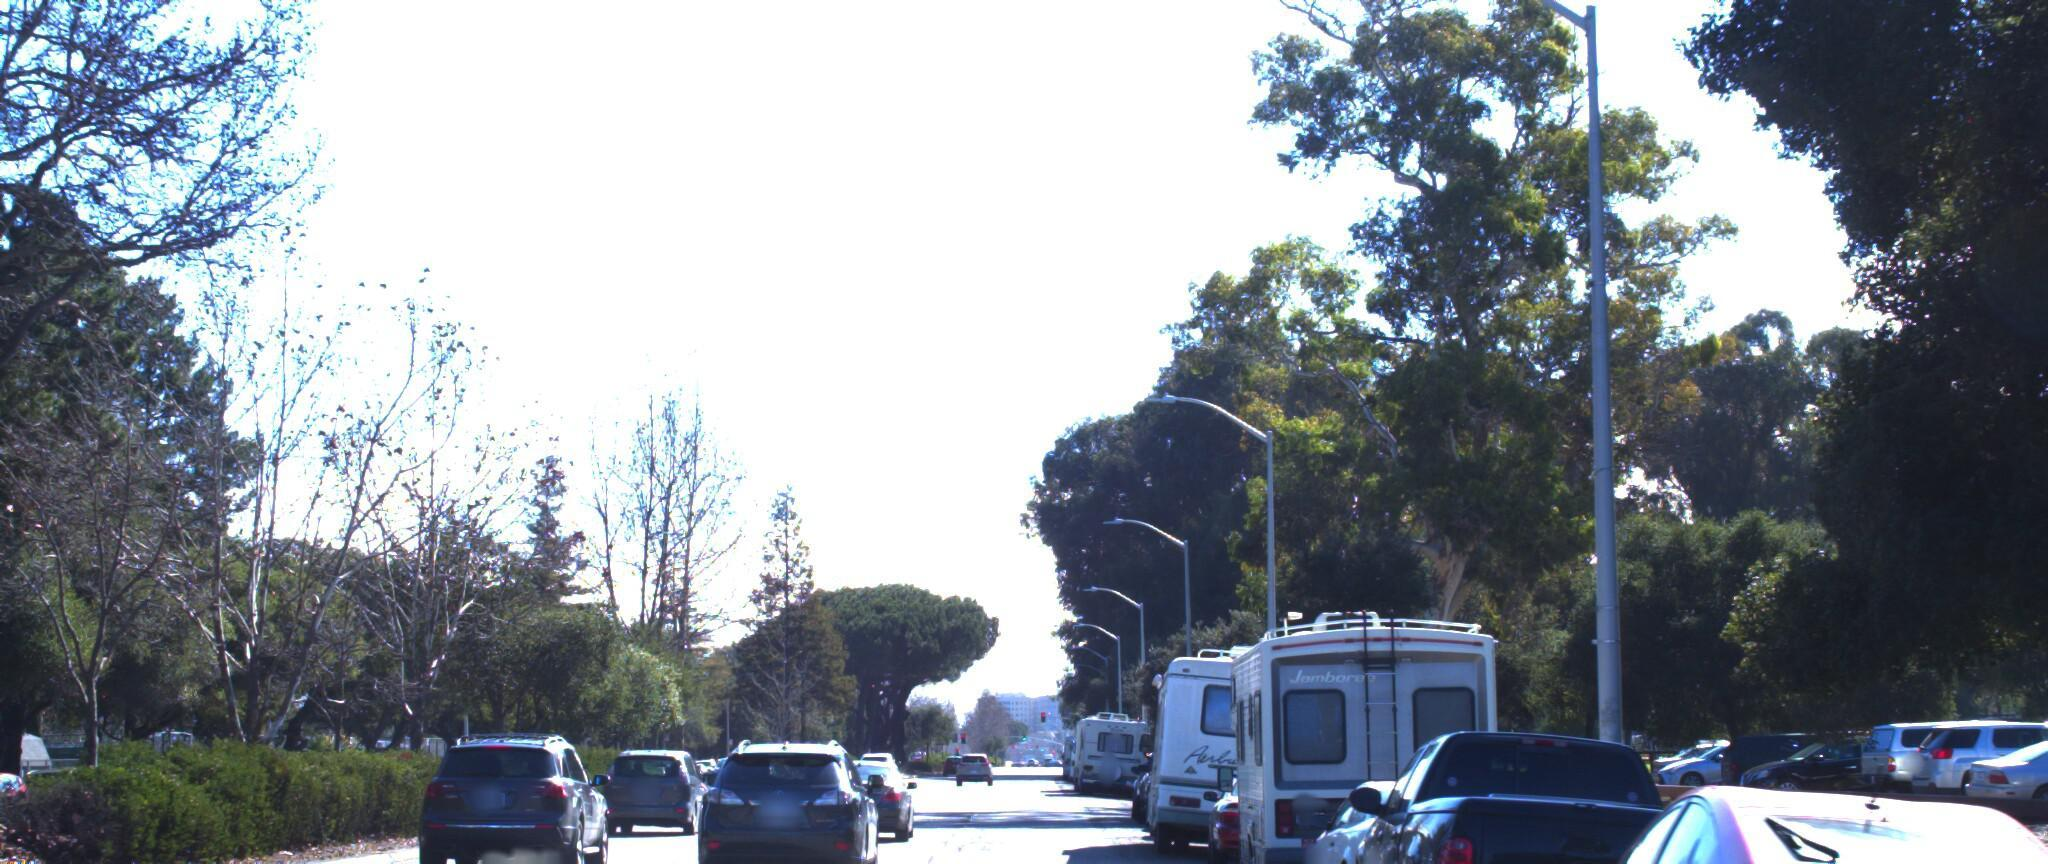car: (1305, 701, 1761, 864), (1493, 749, 2048, 864), (421, 713, 616, 864), (1266, 754, 1536, 864), (687, 719, 886, 864), (1941, 626, 2048, 864), (1177, 747, 1354, 864), (1830, 700, 2048, 794), (1876, 700, 2048, 797), (593, 720, 717, 825), (1927, 717, 2048, 803), (822, 740, 933, 824)
other_vehicle: (1183, 576, 1522, 864), (1126, 624, 1340, 851)
